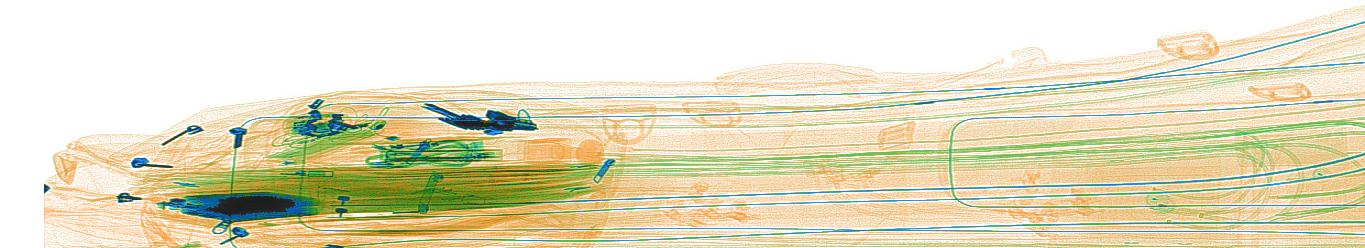seal: (518, 138, 603, 169)
